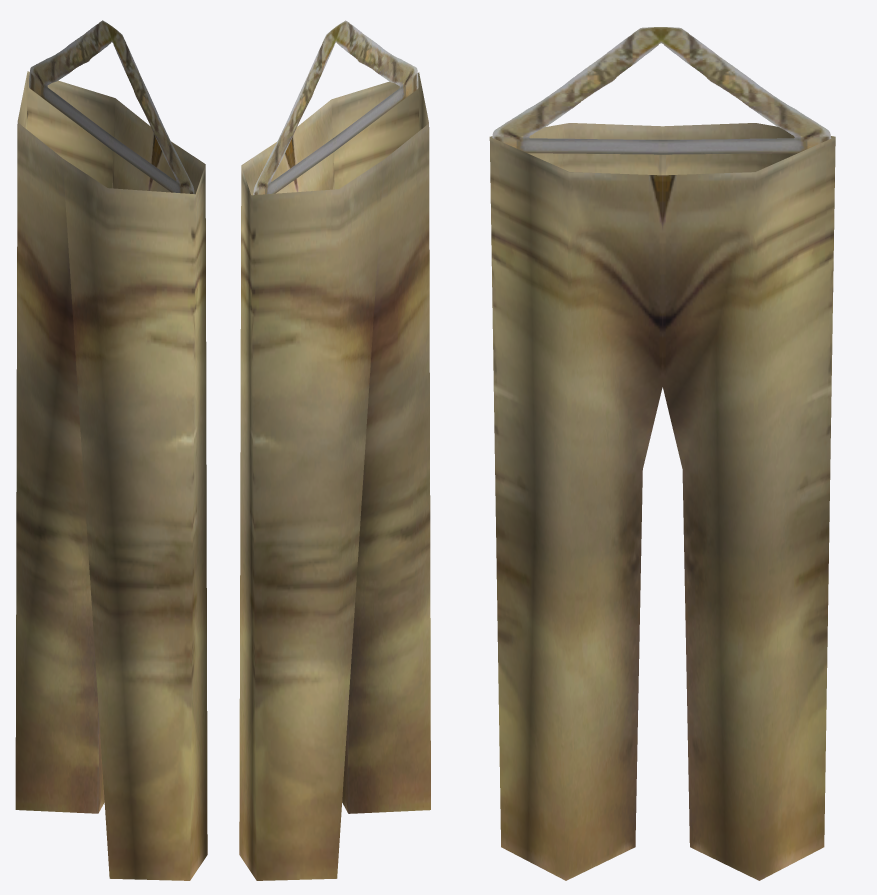
Rendered from hangingpantsbrown.obj.
3 views of the same model, side by side, from view 1: azimuth 30°, elevation 25°; view 2: azimuth 150°, elevation 25°; view 3: azimuth 270°, elevation 25° (orthographic). The views are drawn at different scales.
Parts seen in each view (by area): view 1: hangingpantsbrown; view 2: hangingpantsbrown; view 3: hangingpantsbrown.
Part boxes in pixels (x1=…): hangingpantsbrown: x1=15, y1=20, x2=207, y2=880; hangingpantsbrown: x1=239, y1=20, x2=430, y2=880; hangingpantsbrown: x1=489, y1=27, x2=835, y2=880.
Bounding box in the file's own units: 0.1583 × 1.27 × 0.5466.
1 material, 1 textured.
